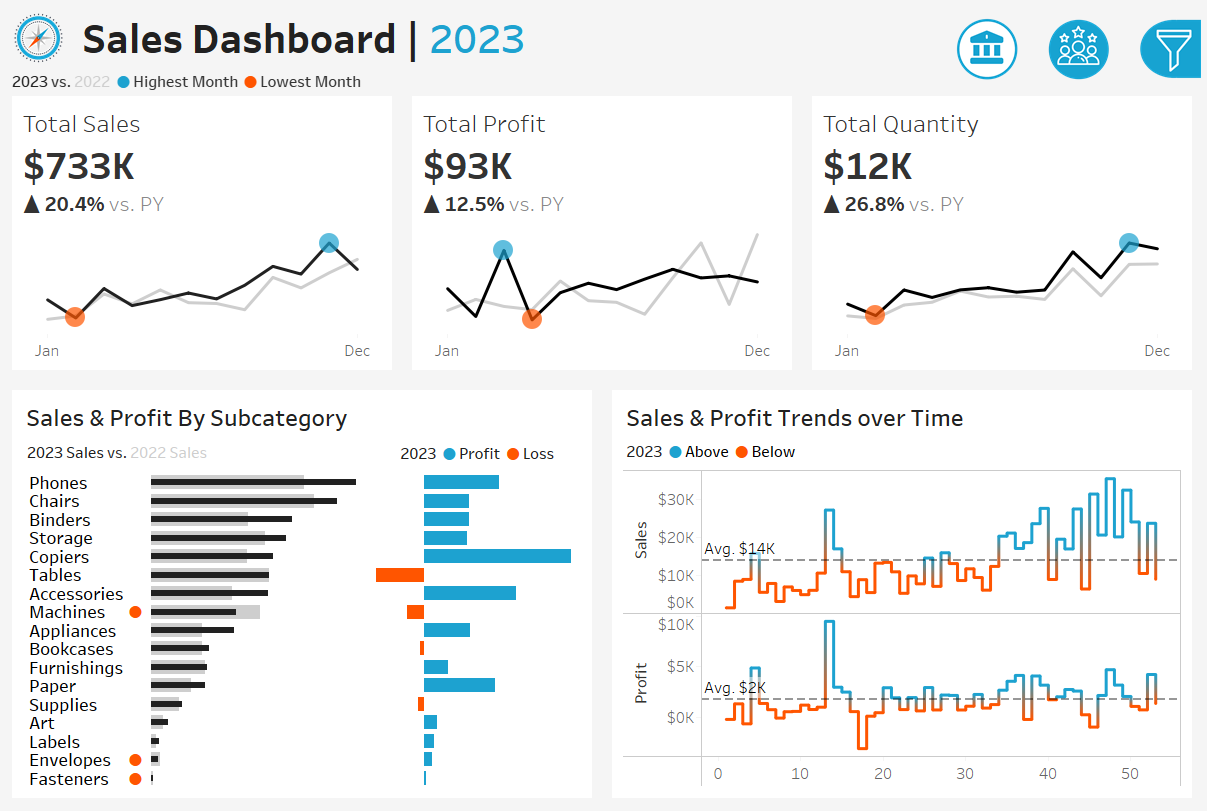

Layout of this report page (visuals, bound fields, positions):
{"tool":"tableau","page":{"name":"Sales Dashboard","canvas":[1200,800],"ordinal":1},"visuals":[{"type":"image","param":"Image/Icon - Logo.png","box":[0,0,73,59]},{"type":"text","box":[73,0,820,59]},{"type":"dashboard-object","box":[940,6,91,70]},{"type":"dashboard-object","box":[1031,6,91,70]},{"type":"blank","box":[952,10,237,86]},{"type":"worksheet","title":"Legend KPI","mark":"Automatic","box":[0,59,1200,29]},{"type":"worksheet","title":"KPI Sales","mark":"Automatic","rows":["Calculation_721701895347843083"],"cols":["Order Date"],"box":[0,88,400,284]},{"type":"worksheet","title":"KPI Profit","mark":"Automatic","rows":["Min/Max Sales (copy)_237846410425847814"],"cols":["Order Date"],"box":[400,88,400,284]},{"type":"worksheet","title":"KPI Quantity","mark":"Automatic","rows":["Min/Max Sales (copy) (copy)_237846410425856007"],"cols":["Order Date"],"box":[800,88,400,284]},{"type":"text","box":[952,96,237,40]},{"type":"parameter","param":"[Parameters].[Parameter 1]","box":[952,136,237,56]},{"type":"text","box":[952,192,237,33]},{"type":"filter","title":"KPI Sales","param":"[federated.1kpxa041aiai2y1cl4pui1t4eju9].[none:Category:nk]","box":[952,225,237,61]},{"type":"filter","title":"KPI Sales","param":"[federated.1kpxa041aiai2y1cl4pui1t4eju9].[none:Sub-Category:nk]","box":[952,286,237,61]},{"type":"blank","box":[952,347,237,60]},{"type":"text","box":[17,389,566,40]},{"type":"text","box":[617,389,566,40]},{"type":"text","box":[952,407,237,33]},{"type":"worksheet","title":"Legend Subcategory","mark":"Automatic","box":[17,429,374,32]},{"type":"text","box":[391,429,192,32]},{"type":"text","box":[617,429,566,29]},{"type":"filter","title":"KPI Sales","param":"[federated.1kpxa041aiai2y1cl4pui1t4eju9].[none:Region:nk]","box":[952,440,237,61]},{"type":"worksheet","title":"Weekly Trends","mark":"Automatic","rows":["Calculation_721701895334993921","CY Sales (copy)_237846410424180736"],"cols":["Order Date"],"box":[617,458,566,325]},{"type":"worksheet","title":"Subcategory Comparison","mark":"Bar","rows":["Sub-Category","Calculation_2435040078806671369"],"cols":["CY Sales (copy)_721701895335804930","Calculation_721701895334993921","CY Sales (copy)_237846410424180736"],"box":[17,461,566,322]},{"type":"filter","title":"KPI Sales","param":"[federated.1kpxa041aiai2y1cl4pui1t4eju9].[none:State:nk]","box":[952,501,237,61]},{"type":"filter","title":"KPI Sales","param":"[federated.1kpxa041aiai2y1cl4pui1t4eju9].[none:City:nk]","box":[952,562,237,61]}]}

Visuals, with their boxes in screenshot pixels (x1, y1, x2, y2), scaled from the page's 1200x800 canvas onto the 1207x811 screenshot:
image: 0/0/73/60
text: 73/0/898/60
dashboard-object: 945/6/1037/77
dashboard-object: 1037/6/1129/77
blank: 958/10/1196/97
"Legend KPI" worksheet: 0/60/1206/89
"KPI Sales" worksheet: 0/89/402/377
"KPI Profit" worksheet: 402/89/805/377
"KPI Quantity" worksheet: 805/89/1206/377
text: 958/97/1196/138
parameter: 958/138/1196/195
text: 958/195/1196/228
"KPI Sales" filter: 958/228/1196/290
"KPI Sales" filter: 958/290/1196/352
blank: 958/352/1196/413
text: 17/394/586/435
text: 621/394/1190/435
text: 958/413/1196/446
"Legend Subcategory" worksheet: 17/435/393/467
text: 393/435/586/467
text: 621/435/1190/464
"KPI Sales" filter: 958/446/1196/508
"Weekly Trends" worksheet: 621/464/1190/794
"Subcategory Comparison" worksheet (Bar marks): 17/467/586/794
"KPI Sales" filter: 958/508/1196/570
"KPI Sales" filter: 958/570/1196/632
